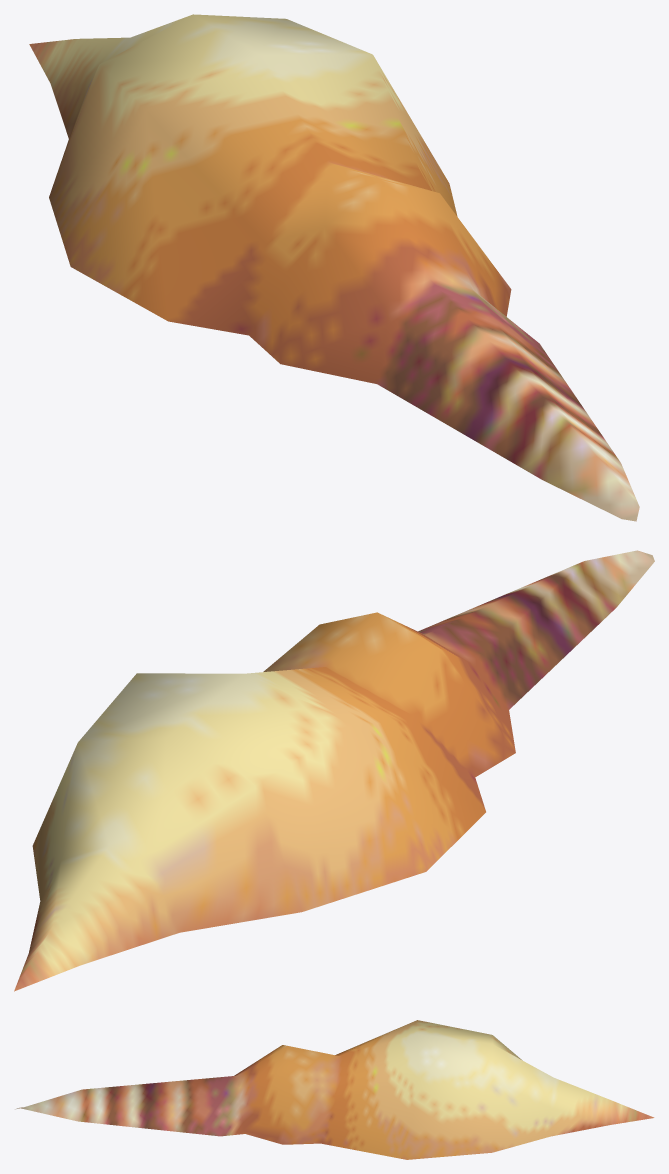
File: hbxz_wj024_03.FBX
3 views of the same model, one above another, from view 1: azimuth 30°, elevation 25°; view 2: azimuth 150°, elevation 25°; view 3: azimuth 270°, elevation 25° (orthographic). The views are drawn at different scales.
Visible parts, largest first — view 1: hbxz_wj024_03; view 2: hbxz_wj024_03; view 3: hbxz_wj024_03.
Part boxes in pixels (x1,y1,x2,y2): hbxz_wj024_03: (29,14,639,521); hbxz_wj024_03: (14,550,654,991); hbxz_wj024_03: (15,1020,654,1159).
Bounding box in the file's own units: 32.35 × 13.72 × 97.21.
1 material, 1 textured.
